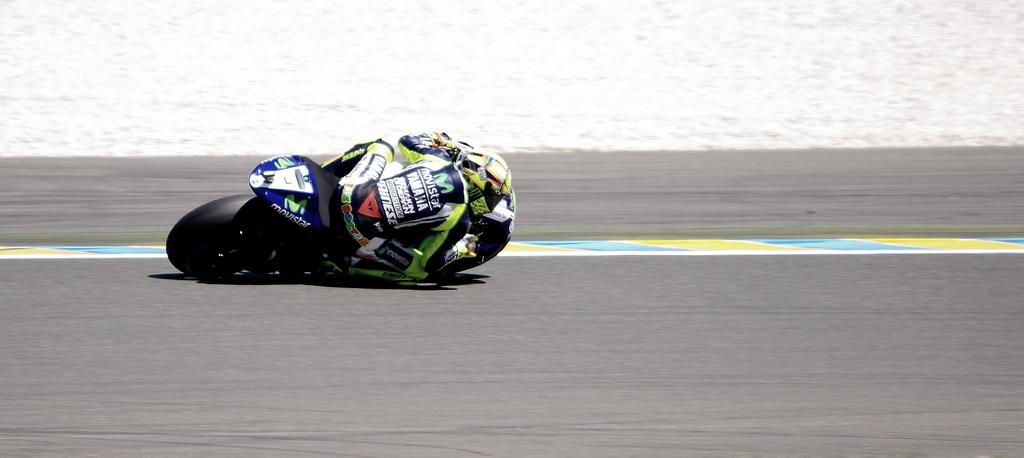helmet: (454, 149, 512, 215)
